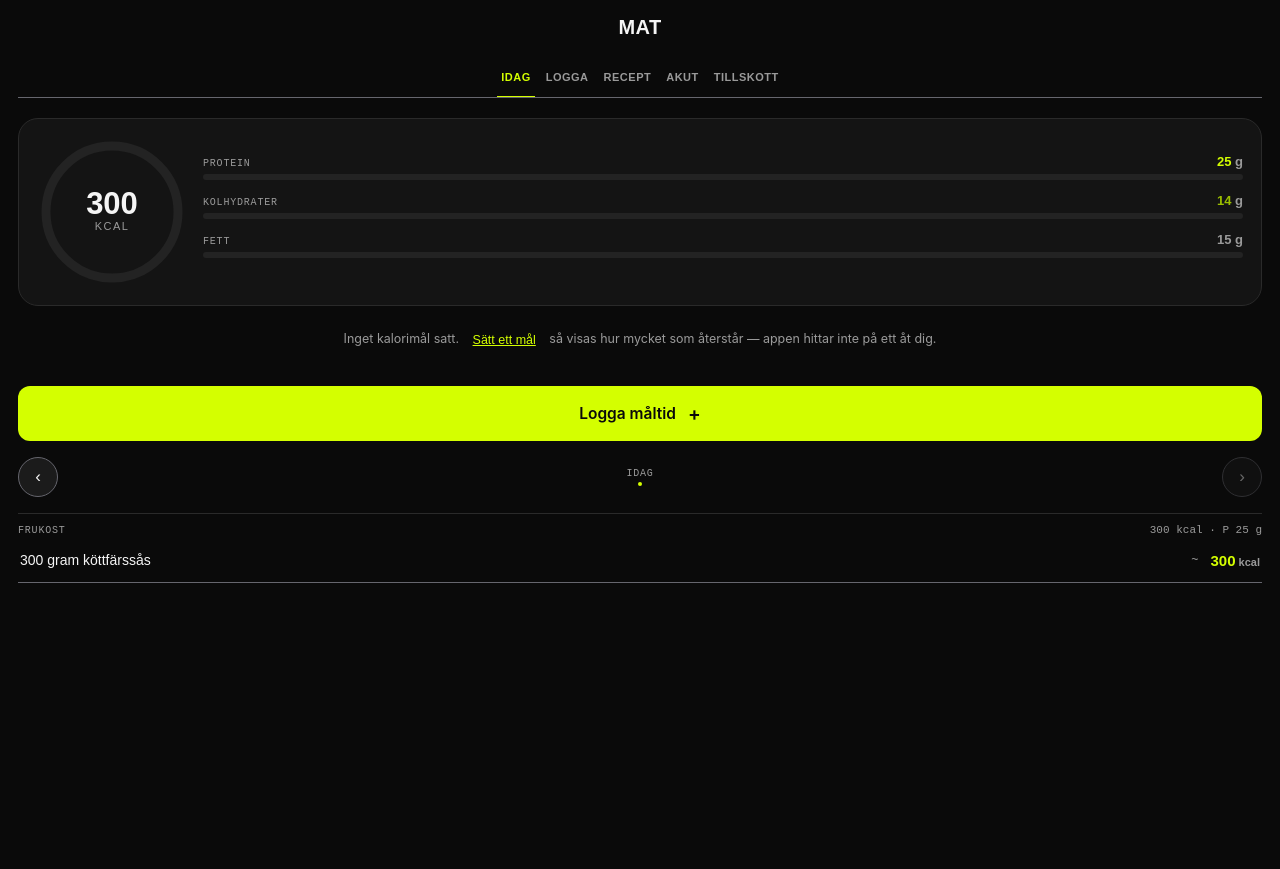
detaljvyn visar alla fyra makron › kolhydrater och fett står bredvid protein
Click the button "300 gram köttfärssås ~ 300 kcal". click: (85, 560)
box: x1=18 y1=538 x2=1262 y2=582
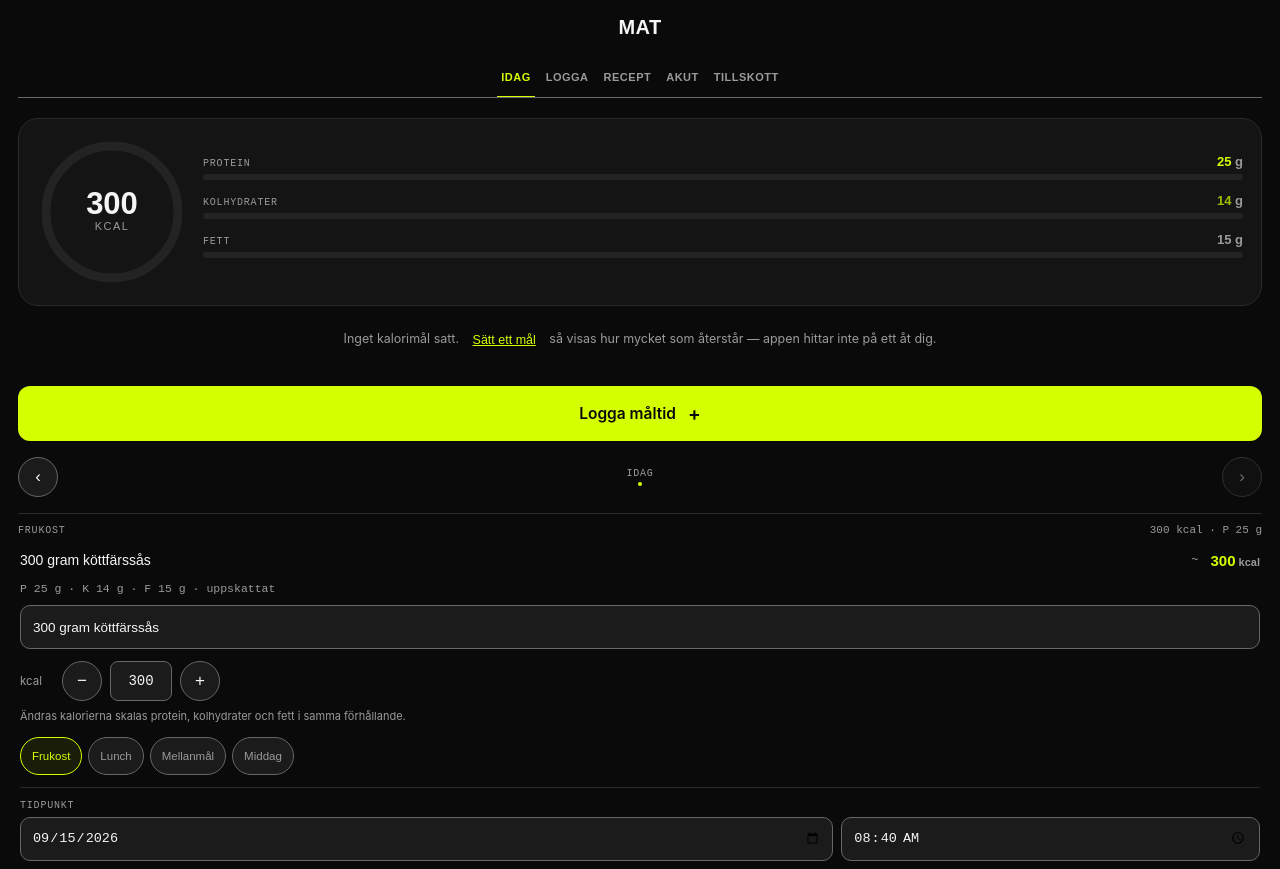
Now the text "P 25 g · K 14 g · F 15 g" is shown, box x1=20 y1=582 x2=275 y2=595
